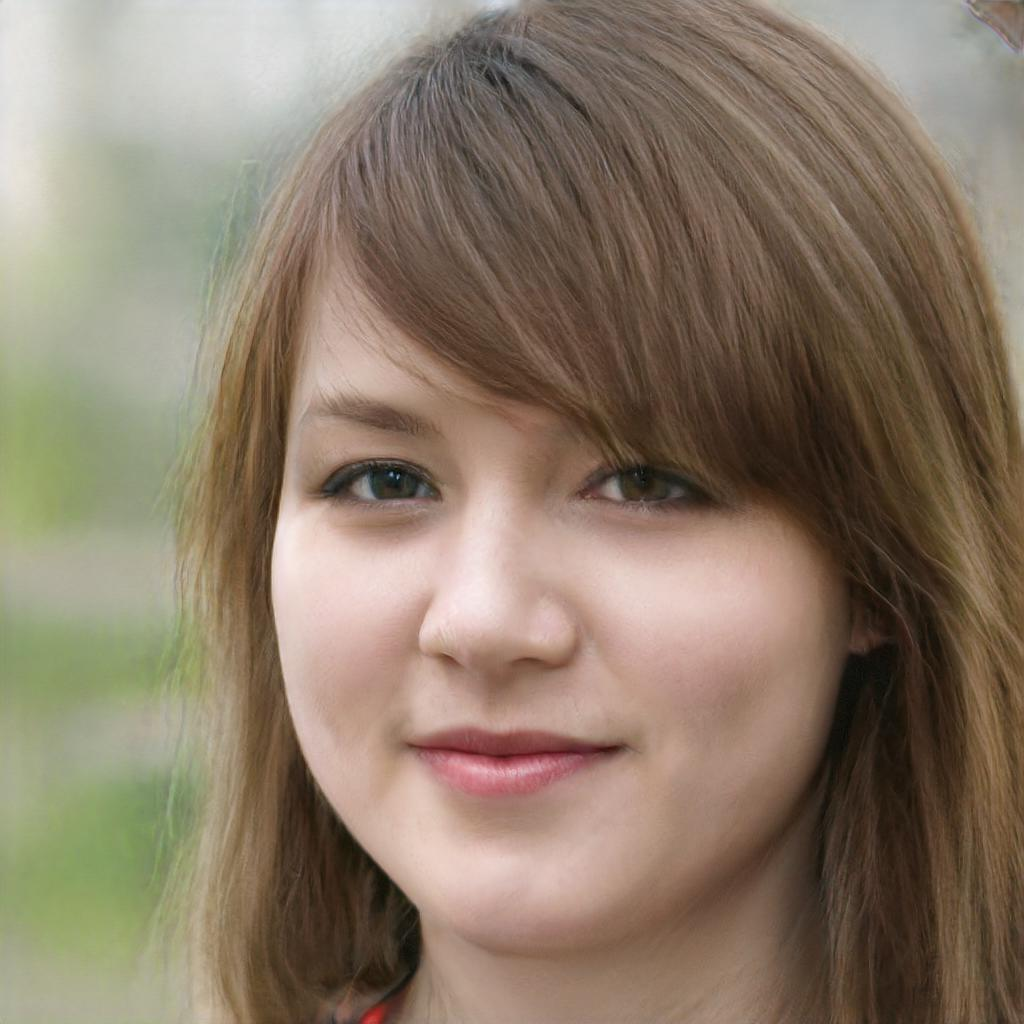face: (271, 252, 850, 951)
